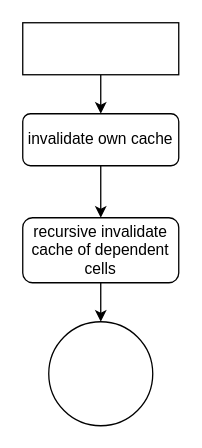
This 202x448 diagram has some shape labels left out. Each missing label, with the centre of its shape:
"InvalidateCache" goes at point (100, 48).
"throw Circular Depend" goes at point (100, 373).
